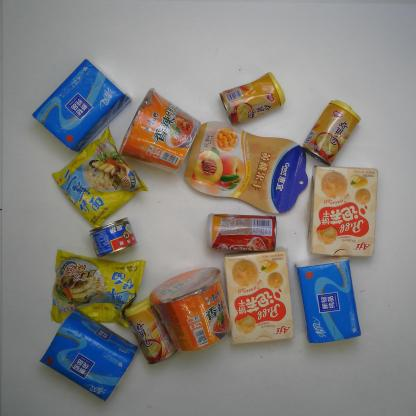Canned Food: (302, 98, 362, 166), (122, 295, 177, 366), (217, 71, 287, 126), (204, 211, 278, 255), (88, 217, 138, 259)
Dessert: (223, 248, 294, 347), (306, 163, 378, 260)
Dried Fruit: (182, 120, 310, 214)
Instant Noodles: (50, 126, 149, 229), (48, 248, 146, 330), (117, 87, 202, 172), (150, 266, 230, 354)
Tissue: (30, 57, 133, 154), (37, 310, 139, 403), (293, 254, 363, 347)
